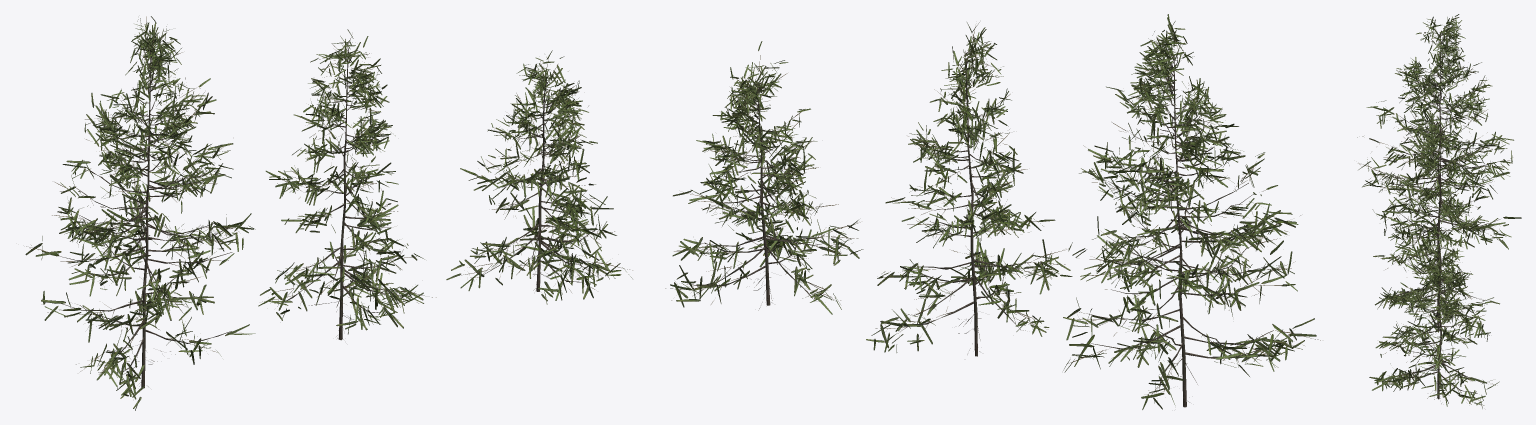
File: sapling_mid.glb
3 views of the same model, side by side, from view 1: azimuth 30°, elevation 25°; view 2: azimuth 150°, elevation 25°; view 3: azimuth 270°, elevation 25° (orthographic). The views are drawn at different scales.
Parts seen in each view (by area): view 1: fir_sapling_medium_a_LOD0, fir_sapling_medium_b_LOD0, fir_sapling_medium_c_LOD0; view 2: fir_sapling_medium_a_LOD0, fir_sapling_medium_b_LOD0, fir_sapling_medium_c_LOD0; view 3: fir_sapling_medium_a_LOD0, fir_sapling_medium_c_LOD0, fir_sapling_medium_b_LOD0.
Boxes of the visible parts, left/top/right/bottom form: fir_sapling_medium_a_LOD0: left=25, top=16, right=255, bottom=410; fir_sapling_medium_b_LOD0: left=258, top=29, right=436, bottom=340; fir_sapling_medium_c_LOD0: left=446, top=50, right=632, bottom=304; fir_sapling_medium_a_LOD0: left=1063, top=14, right=1320, bottom=409; fir_sapling_medium_b_LOD0: left=866, top=22, right=1072, bottom=356; fir_sapling_medium_c_LOD0: left=665, top=41, right=863, bottom=314; fir_sapling_medium_a_LOD0: left=1357, top=14, right=1521, bottom=263; fir_sapling_medium_c_LOD0: left=1369, top=231, right=1499, bottom=408; fir_sapling_medium_b_LOD0: left=1373, top=111, right=1499, bottom=341.
Bounding box in the file's own units: 14.68 × 8.88 × 5.27.
3 materials, 3 textured.
